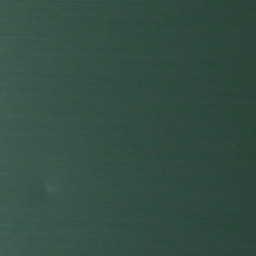con: (13, 166, 63, 201)
